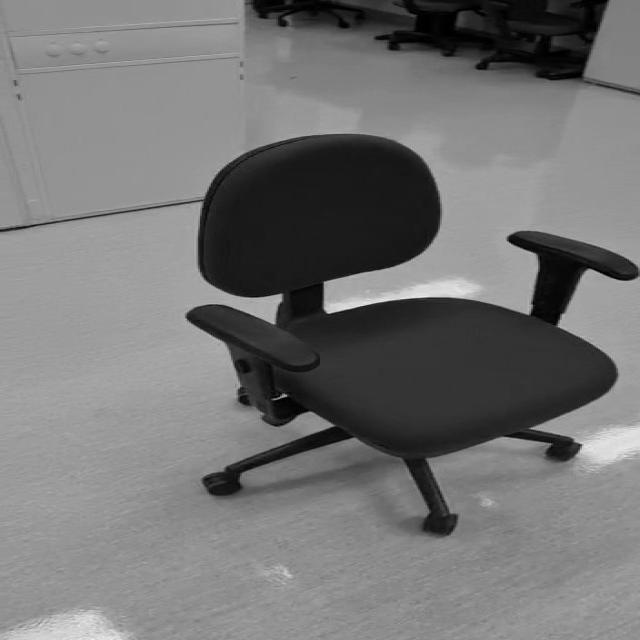cadeira-azul: (188, 134, 640, 536)
